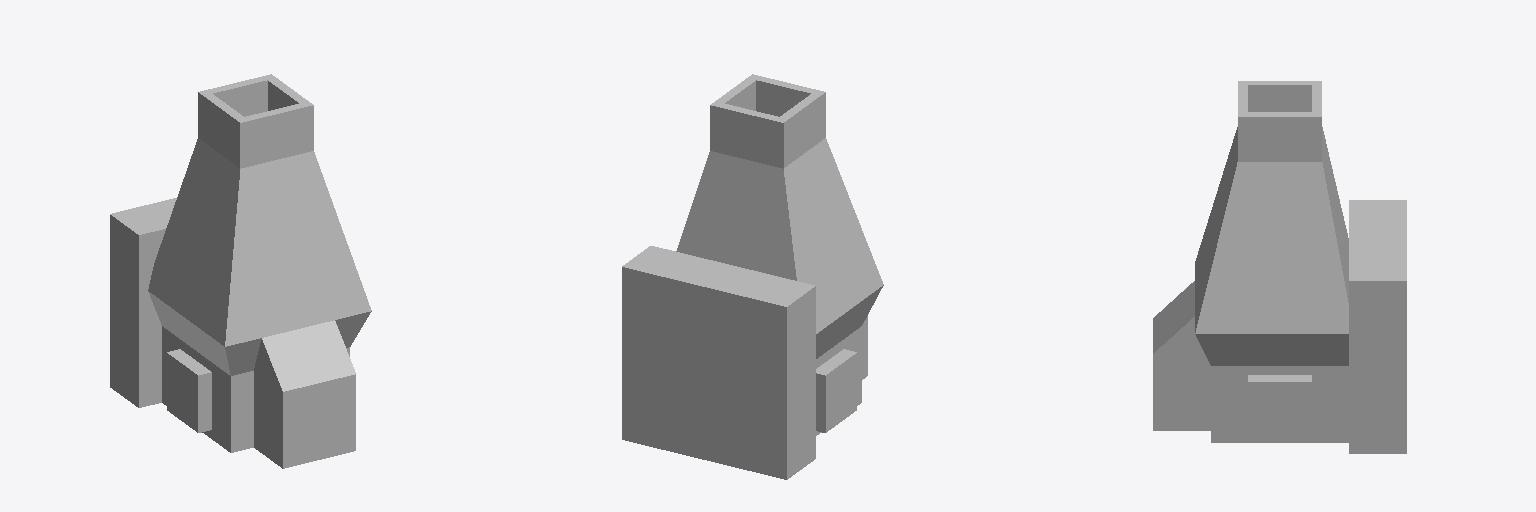
Rendered from coke_oven_advanced.obj.
3 views of the same model, side by side, from view 1: azimuth 30°, elevation 25°; view 2: azimuth 150°, elevation 25°; view 3: azimuth 270°, elevation 25° (orthographic).
Parts seen in each view (by area): view 1: 2; view 2: 2; view 3: 2.
Boxes of the visible parts, box(x1,y1,x2,y2) form: 2: box(110, 74, 371, 468); 2: box(622, 74, 883, 479); 2: box(1153, 81, 1406, 453).
Size of the model in its own units: 2.25 by 4.09 by 3.